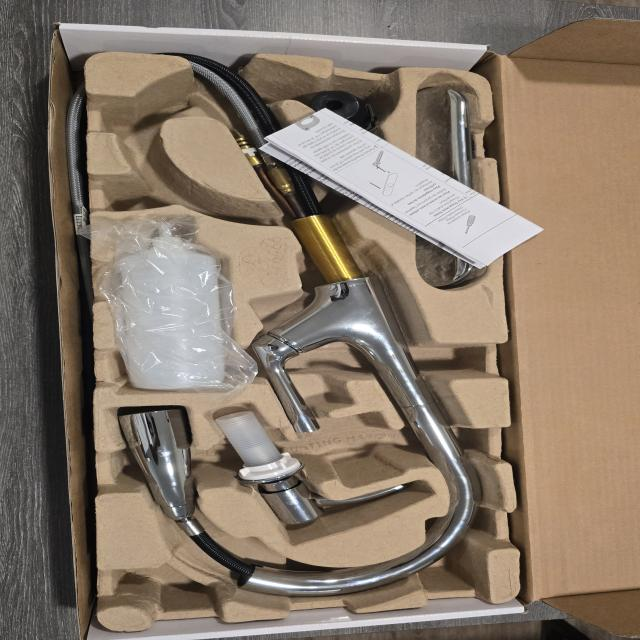1o: (117, 55, 479, 596)
2: (215, 412, 405, 525)
3: (119, 220, 225, 390)
4o: (408, 89, 479, 289)
5o: (313, 91, 374, 141)
6m: (102, 82, 187, 146)
7m: (110, 164, 231, 219)
8: (259, 107, 544, 269)
